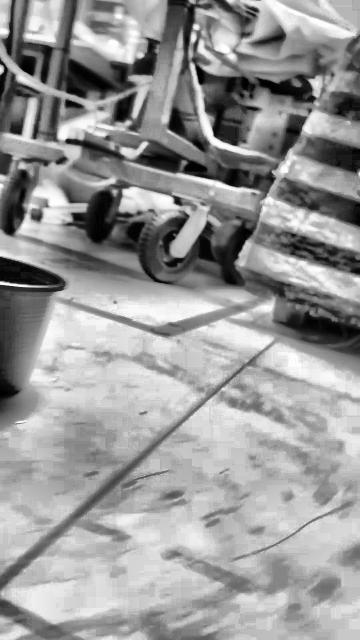pot: (0, 256, 67, 400)
